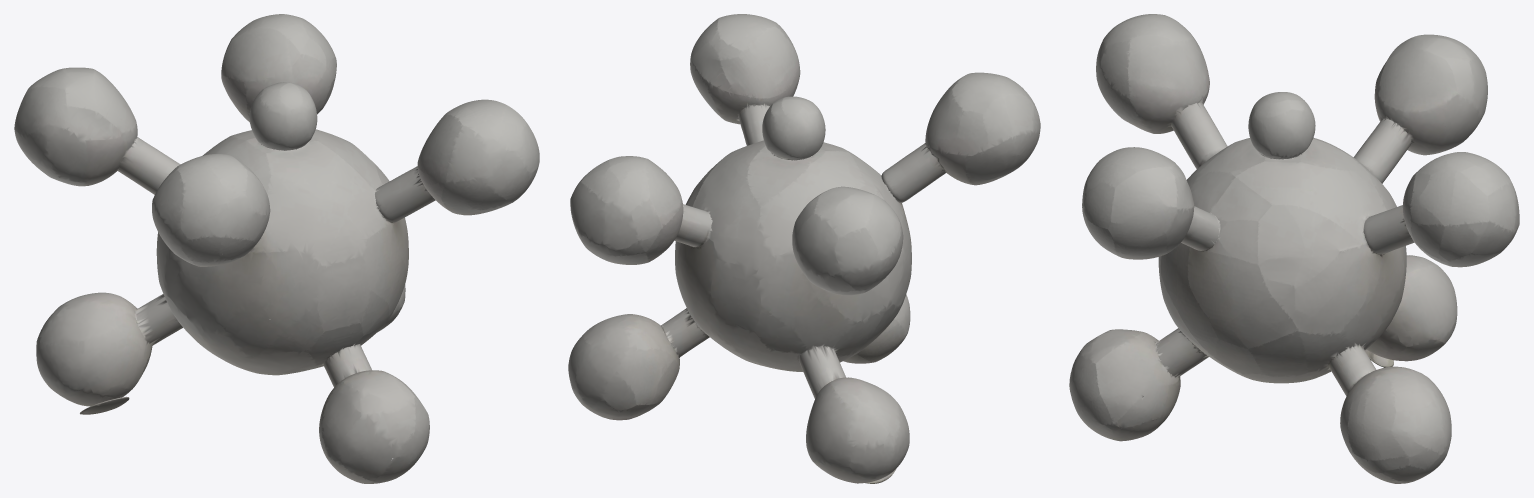
The model's file is network.glb.
The picture shows the model from 3 angles, left to right: view 1: azimuth 30°, elevation 25°; view 2: azimuth 150°, elevation 25°; view 3: azimuth 270°, elevation 25°; orthographic projection. The views are drawn at different scales.
Parts seen in each view (by area): view 1: tripo_node_99d14492-e866-4253-b4c6-f24ff3d73149; view 2: tripo_node_99d14492-e866-4253-b4c6-f24ff3d73149; view 3: tripo_node_99d14492-e866-4253-b4c6-f24ff3d73149.
Part boxes in pixels (<box>): tripo_node_99d14492-e866-4253-b4c6-f24ff3d73149: <box>14,14,539,483</box>; tripo_node_99d14492-e866-4253-b4c6-f24ff3d73149: <box>568,14,1040,483</box>; tripo_node_99d14492-e866-4253-b4c6-f24ff3d73149: <box>1069,14,1519,483</box>.
Bounding box in the file's own units: 0.9059 × 0.8216 × 0.9796.
1 material, 1 textured.
